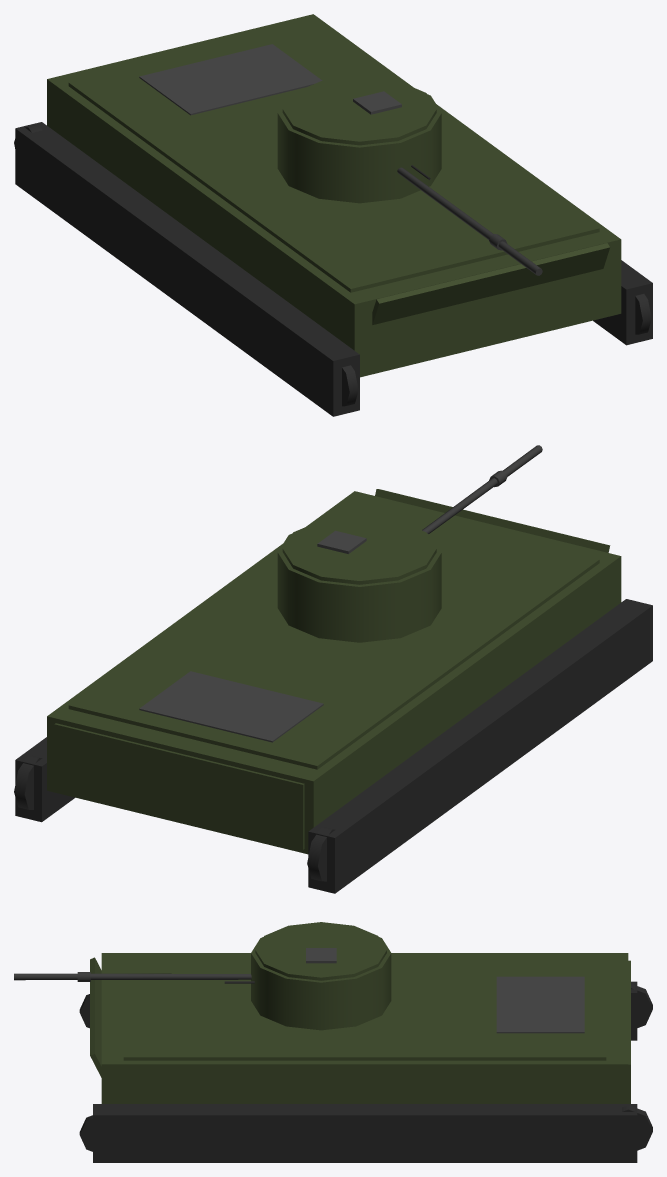
The picture shows the model from 3 angles, top to bottom: view 1: azimuth 30°, elevation 25°; view 2: azimuth 150°, elevation 25°; view 3: azimuth 270°, elevation 25°; orthographic projection. The views are drawn at different scales.
Visible parts, largest first — view 1: Mesh_TopDeck, Mesh_Hull, Mesh_TrackLeft, Mesh_TurretBody, Mesh_TurretRoof, Mesh_EngineGrilles, Mesh_BowPlate, Mesh_TrackRight, Mesh_MainGun, Mesh_Hatch, Mesh_IdlerRight, Mesh_IdlerLeft; view 2: Mesh_TopDeck, Mesh_Hull, Mesh_TrackLeft, Mesh_RearPlate, Mesh_TurretBody, Mesh_TurretRoof, Mesh_EngineGrilles, Mesh_BowPlate, Mesh_TrackRight, Mesh_MainGun, Mesh_SprocketRight, Mesh_SprocketLeft (+1 smaller); view 3: Mesh_TopDeck, Mesh_TrackRight, Mesh_Hull, Mesh_TurretBody, Mesh_TurretRoof, Mesh_EngineGrilles, Mesh_MainGun, Mesh_BowPlate, Mesh_SprocketRight, Mesh_SprocketLeft, Mesh_Hatch, Mesh_RearPlate (+2 smaller).
Part boxes in pixels (x1,y1,x2,y2): Mesh_TopDeck: (68, 22, 599, 292); Mesh_Hull: (47, 14, 621, 377); Mesh_TrackLeft: (15, 122, 359, 416); Mesh_TurretBody: (277, 94, 441, 203); Mesh_TurretRoof: (282, 76, 436, 145); Mesh_EngineGrilles: (139, 44, 322, 115); Mesh_BowPlate: (372, 243, 609, 324); Mesh_TrackRight: (593, 260, 652, 345); Mesh_MainGun: (397, 167, 542, 275); Mesh_Hatch: (353, 91, 401, 114); Mesh_IdlerRight: (635, 294, 651, 334); Mesh_IdlerLeft: (342, 365, 358, 406); Mesh_TopDeck: (68, 499, 599, 769); Mesh_Hull: (47, 491, 621, 854); Mesh_TrackLeft: (308, 599, 652, 893); Mesh_RearPlate: (54, 723, 304, 849); Mesh_TurretBody: (277, 533, 441, 642); Mesh_TurretRoof: (282, 516, 436, 584); Mesh_EngineGrilles: (139, 671, 323, 742); Mesh_BowPlate: (375, 489, 610, 552); Mesh_TrackRight: (15, 737, 74, 822); Mesh_MainGun: (422, 445, 542, 533); Mesh_SprocketRight: (14, 755, 42, 809); Mesh_SprocketLeft: (307, 827, 335, 881); Mesh_TopDeck: (123, 953, 606, 1060); Mesh_TrackRight: (93, 1104, 637, 1162); Mesh_Hull: (101, 953, 628, 1103); Mesh_TurretBody: (251, 937, 391, 1030); Mesh_TurretRoof: (255, 922, 386, 980); Mesh_EngineGrilles: (496, 976, 584, 1033); Mesh_MainGun: (14, 973, 251, 980); Mesh_BowPlate: (90, 957, 101, 1077); Mesh_SprocketRight: (622, 1105, 652, 1150); Mesh_SprocketLeft: (631, 983, 652, 1027); Mesh_Hatch: (306, 948, 336, 963); Mesh_RearPlate: (628, 960, 630, 1103).
Bounding box in the file's own units: 3.6 × 1.88 × 7.28.
